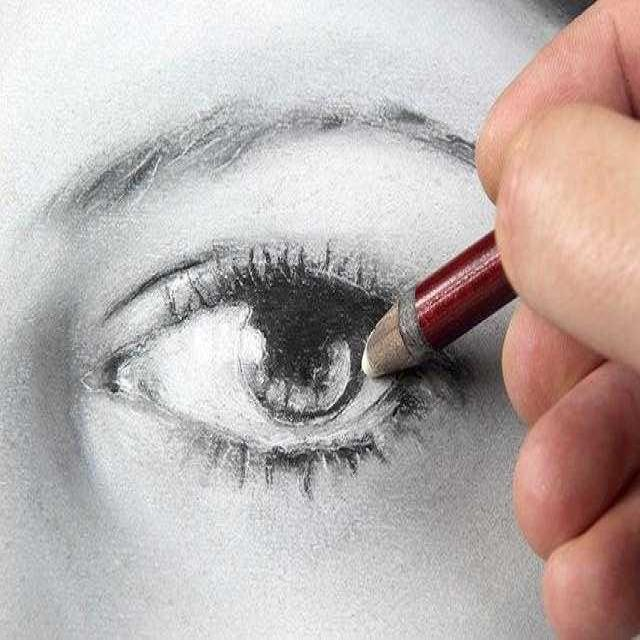pencil: (358, 227, 513, 384)
